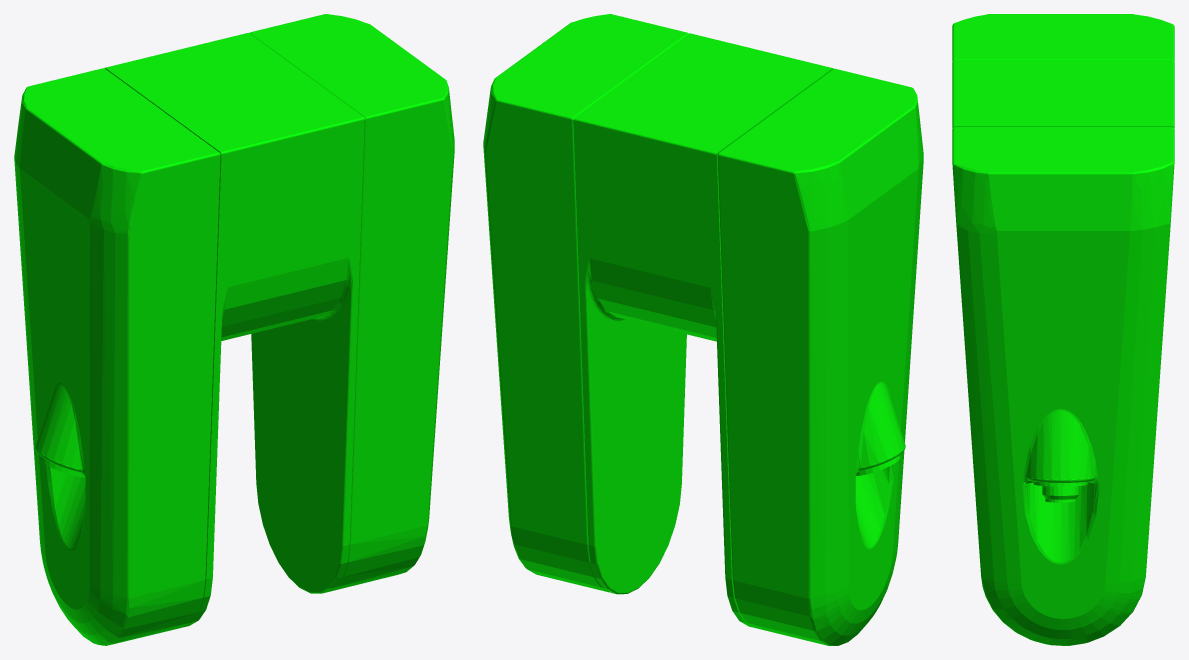
The picture shows the model from 3 angles, left to right: view 1: azimuth 30°, elevation 25°; view 2: azimuth 150°, elevation 25°; view 3: azimuth 270°, elevation 25°; orthographic projection. The views are drawn at different scales.
Visible parts, largest first — view 1: link4; view 2: link4; view 3: link4.
Part boxes in pixels (<box>): link4: <box>14,14,454,645</box>; link4: <box>483,14,923,645</box>; link4: <box>952,14,1174,645</box>.
Bounding box in the file's own units: 0.2126 × 0.266 × 0.1103.
